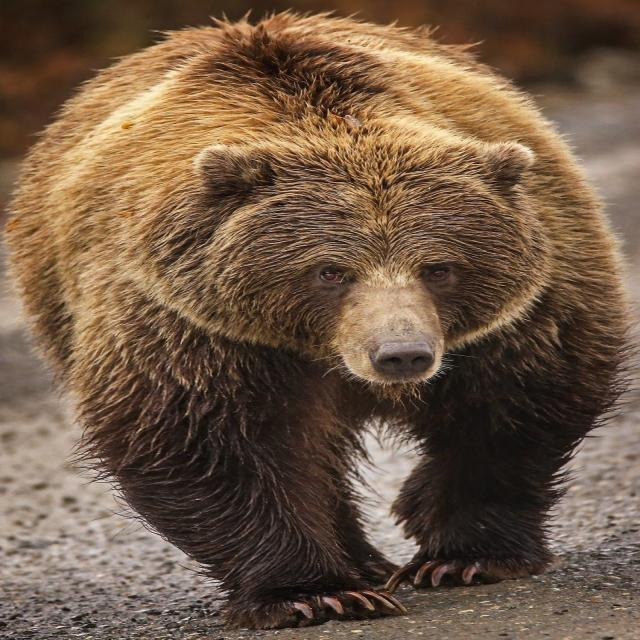bear: (12, 0, 639, 609)
